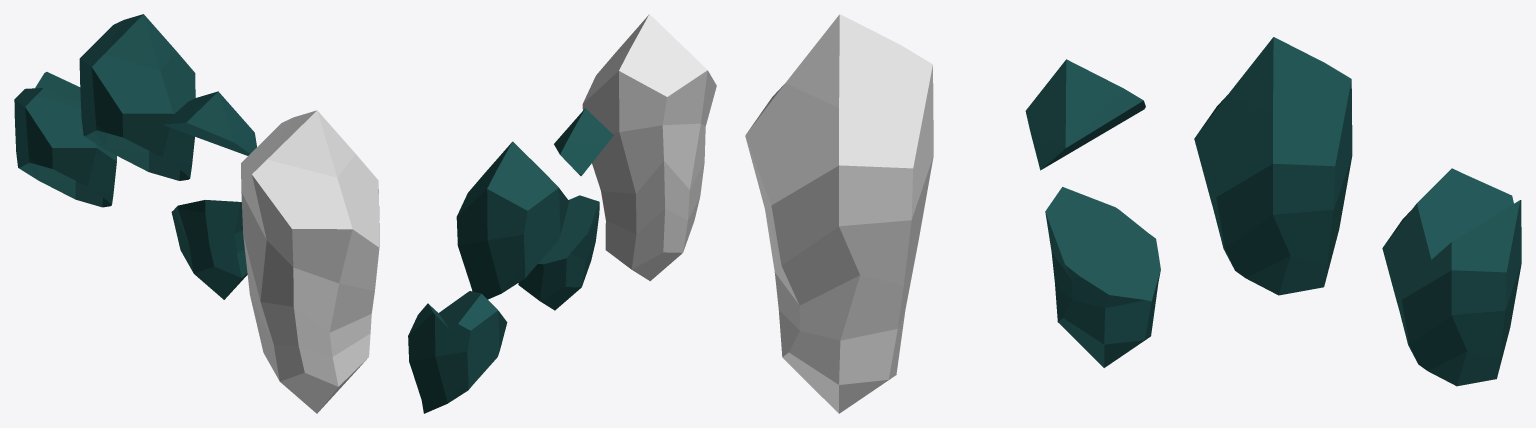
Rendered from crystals.fbx.
3 views of the same model, side by side, from view 1: azimuth 30°, elevation 25°; view 2: azimuth 150°, elevation 25°; view 3: azimuth 270°, elevation 25° (orthographic). The views are drawn at different scales.
Parts seen in each view (by area): view 1: transparent, sharp large, shard mid, shard, shard top; view 2: transparent, sharp large, shard mid, shard, shard top; view 3: transparent, sharp large, shard mid, shard, shard top.
Part boxes in pixels (x1=…): transparent: x1=241, y1=110, x2=379, y2=413; sharp large: x1=79, y1=14, x2=195, y2=180; shard mid: x1=14, y1=72, x2=116, y2=207; shard: x1=171, y1=200, x2=247, y2=299; shard top: x1=163, y1=91, x2=256, y2=155; transparent: x1=582, y1=14, x2=716, y2=281; sharp large: x1=456, y1=141, x2=569, y2=299; shard mid: x1=408, y1=291, x2=507, y2=413; shard: x1=518, y1=195, x2=599, y2=310; shard top: x1=554, y1=108, x2=613, y2=175; transparent: x1=745, y1=14, x2=933, y2=413; sharp large: x1=1194, y1=37, x2=1352, y2=295; shard mid: x1=1382, y1=168, x2=1521, y2=386; shard: x1=1045, y1=187, x2=1160, y2=367; shard top: x1=1025, y1=59, x2=1145, y2=170.
Size of what is drawn, in the model's own units: 207 by 470 by 827.
